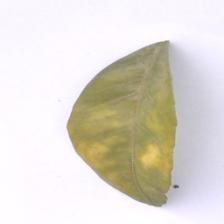greening: (62, 86, 189, 179)
